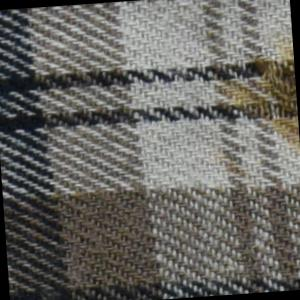Damage: (250, 55, 300, 134)
Oil Stain: (214, 36, 300, 160)
